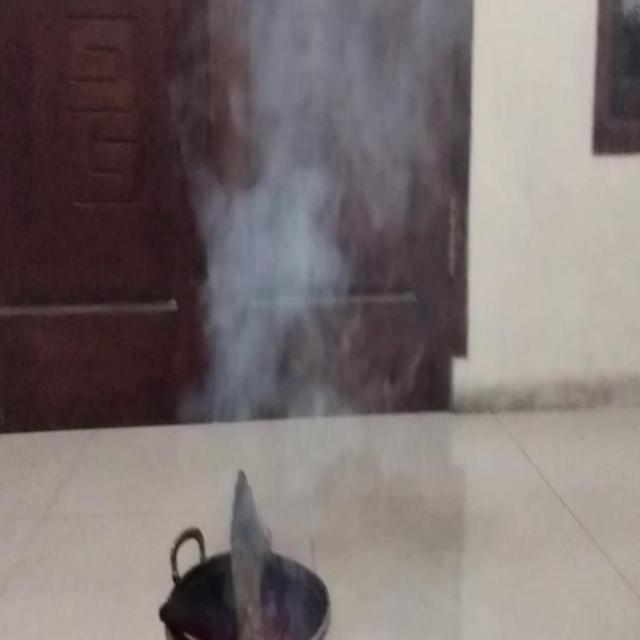fire: (171, 0, 455, 445)
